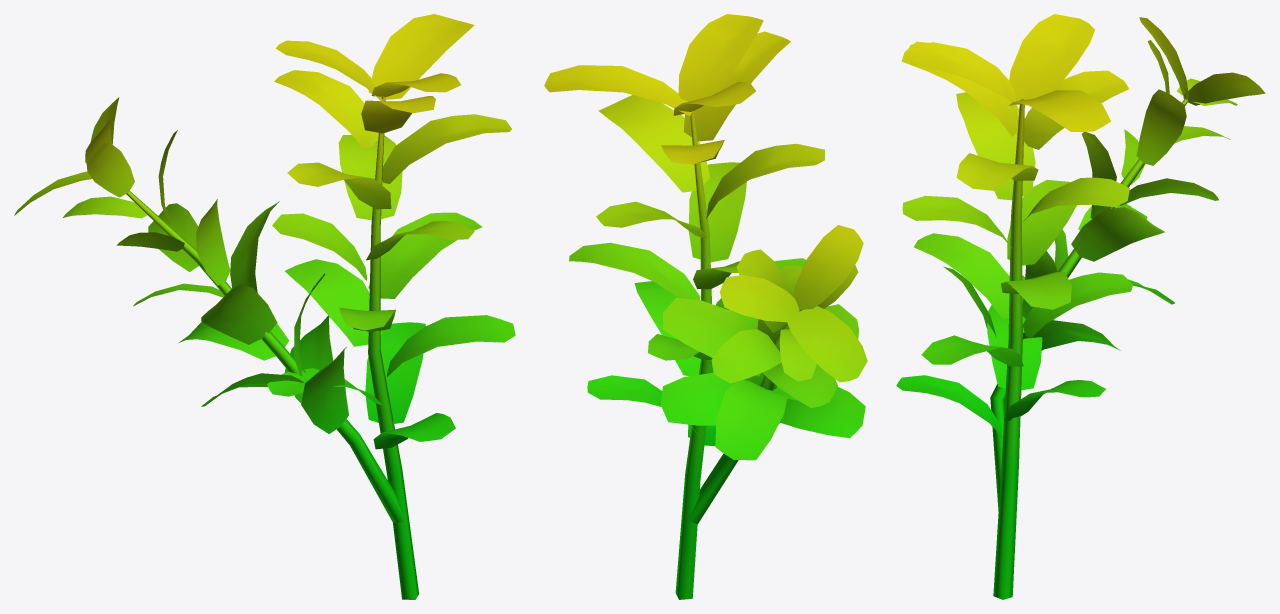
The model's file is Lingonberry_LOD1_Var10.fbx.
3 views of the same model, side by side, from view 1: azimuth 30°, elevation 25°; view 2: azimuth 150°, elevation 25°; view 3: azimuth 270°, elevation 25° (orthographic). The views are drawn at different scales.
Visible parts, largest first — view 1: _mkhu_Var10_LOD1; view 2: _mkhu_Var10_LOD1; view 3: _mkhu_Var10_LOD1.
Part boxes in pixels (left/top/right/bottom): _mkhu_Var10_LOD1: left=14, top=14, right=515, bottom=599; _mkhu_Var10_LOD1: left=544, top=14, right=867, bottom=599; _mkhu_Var10_LOD1: left=896, top=14, right=1265, bottom=599.
Bounding box in the file's own units: 6.38 × 8.67 × 5.4.
